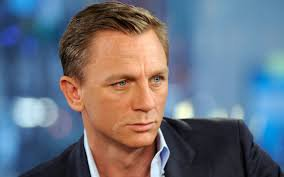noMask: (53, 4, 175, 152)
